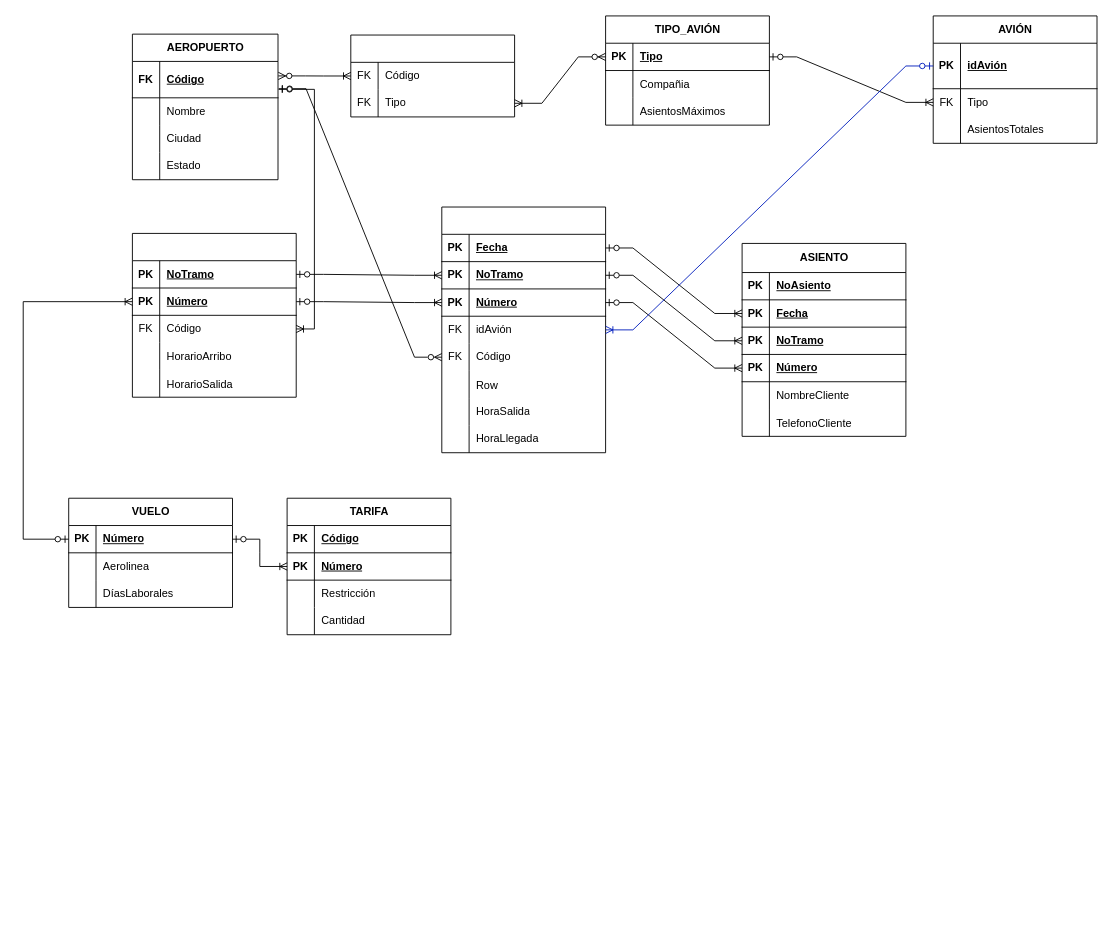
This 1113x951 diagram has some shape labels left out. Each missing label, with the box of its shape:
ATERRIZAR: (350, 34, 515, 117)
INSTANCIA_DE_TRAMO: (441, 206, 606, 453)
TRAMO_DE_VUELO: (131, 233, 296, 397)
